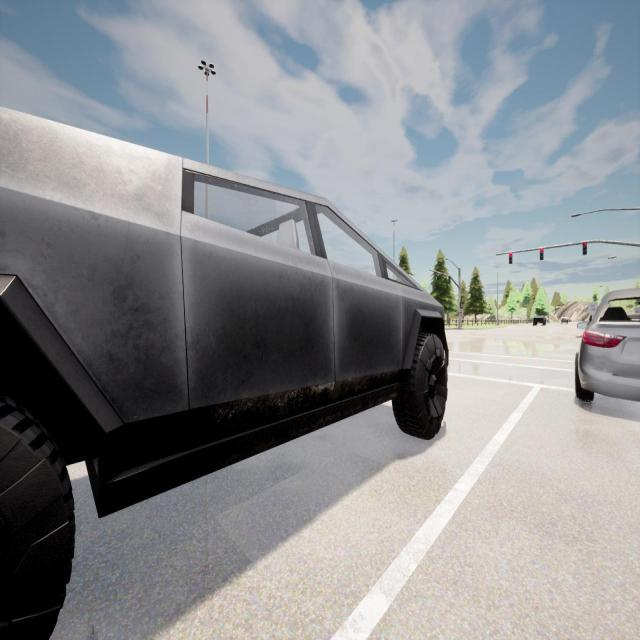Traffic_Signs: (588, 302, 597, 314), (459, 310, 464, 318)
Vehicle: (0, 106, 450, 640), (575, 288, 639, 401), (533, 314, 547, 326), (560, 317, 569, 325)
traffic_light: (583, 242, 587, 255), (509, 252, 513, 264), (459, 300, 463, 309), (540, 249, 543, 260), (440, 274, 443, 284), (436, 273, 438, 283), (448, 277, 450, 286)
